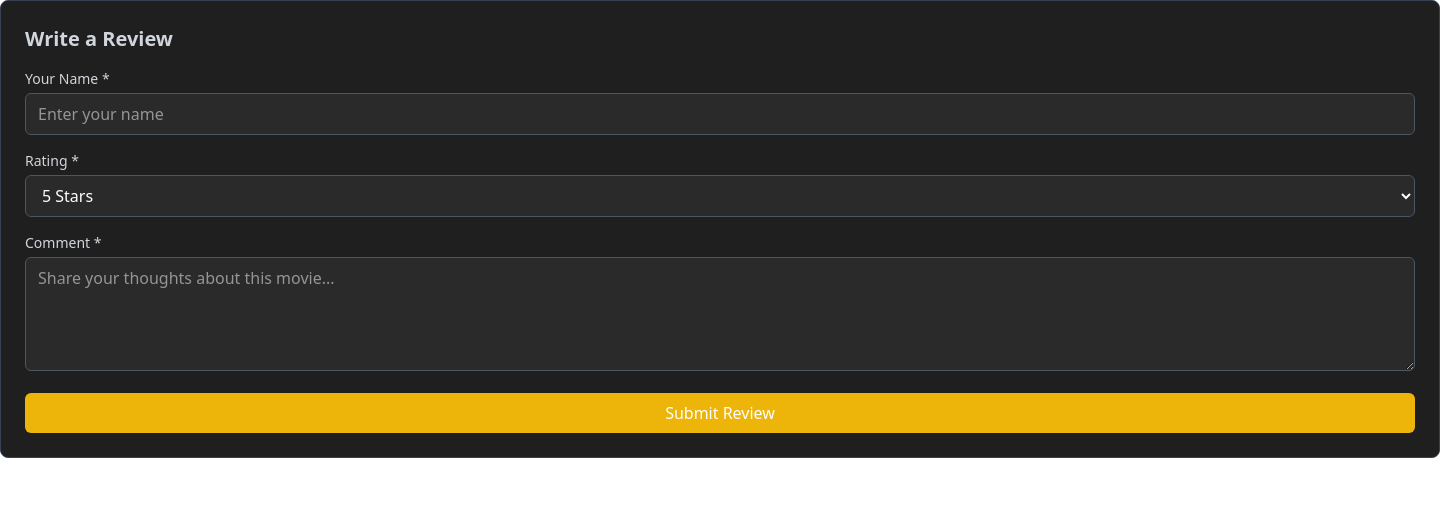
Scenario: ReviewForm › clears validation errors when user types
Click the button "Submit Review". click: coordinates (720, 413)
box: [25,393,1415,433]
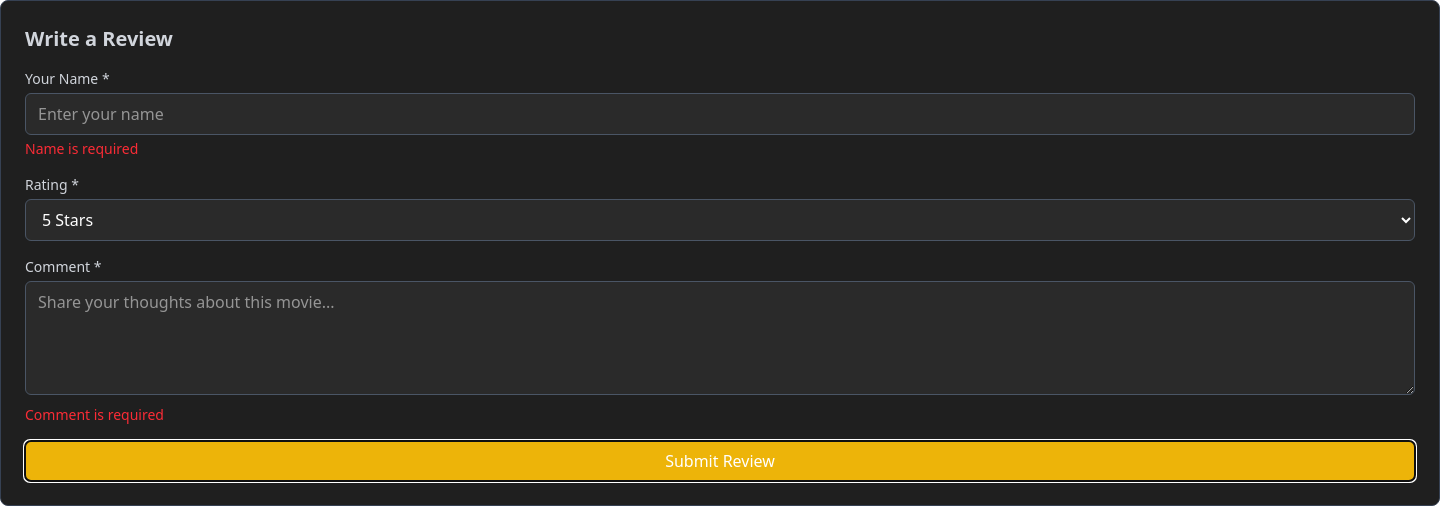
Expected: the text "Name is required" is shown, [25,139,138,158]
Type "John Doe" into the field labelled "Your Name *". click: coordinates (720, 114)
box: [25,93,1415,135]
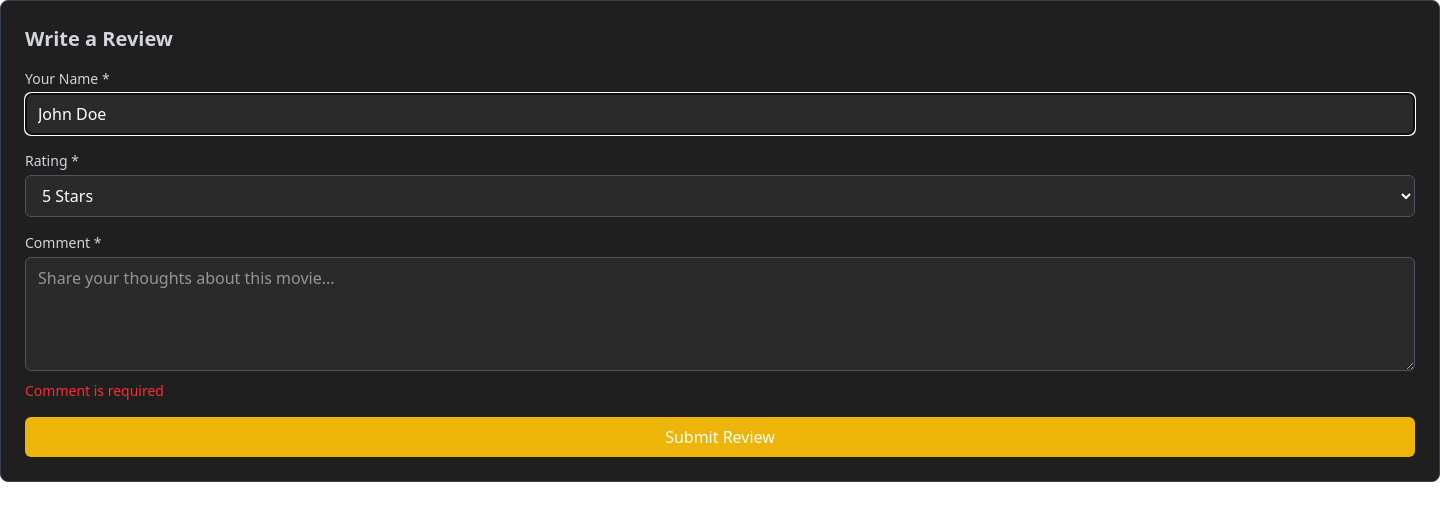
Expected: the text "Name is required" is gone
